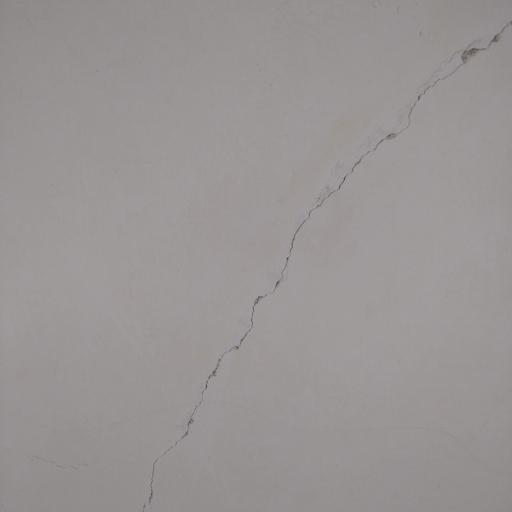minor_crack: (131, 0, 512, 495)
